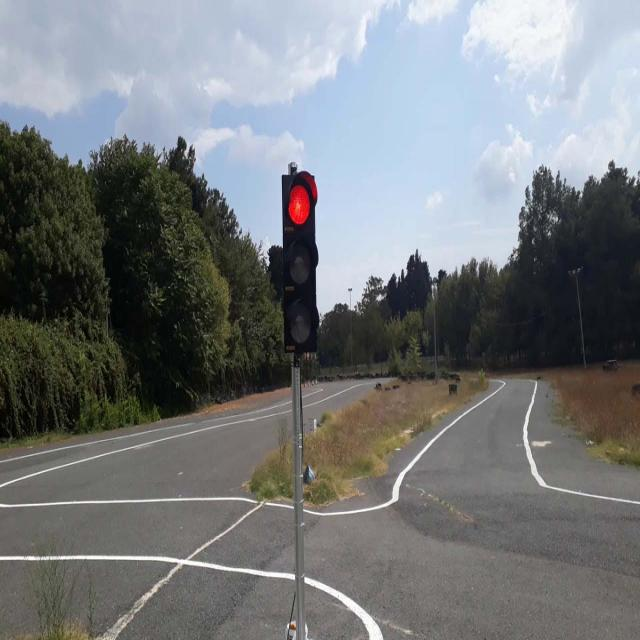kirmizi: (282, 175, 317, 349)
